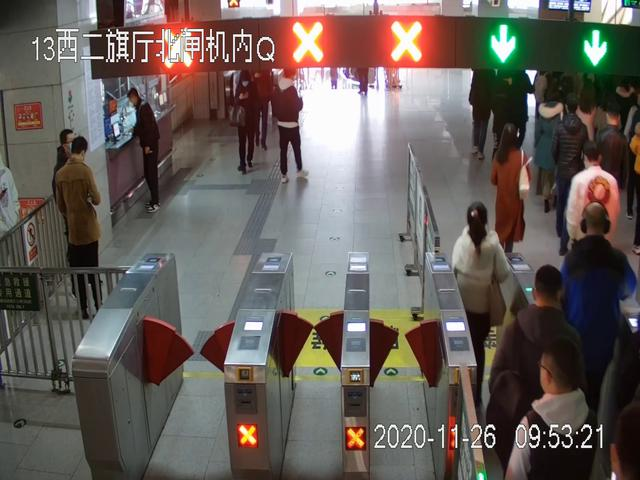person: (488, 265, 590, 480), (564, 200, 640, 420), (451, 202, 512, 407), (565, 144, 620, 310), (55, 137, 105, 318), (492, 122, 533, 272), (553, 97, 589, 254), (127, 86, 163, 214), (272, 70, 310, 182), (534, 87, 566, 212), (230, 71, 260, 174), (468, 67, 494, 161)
